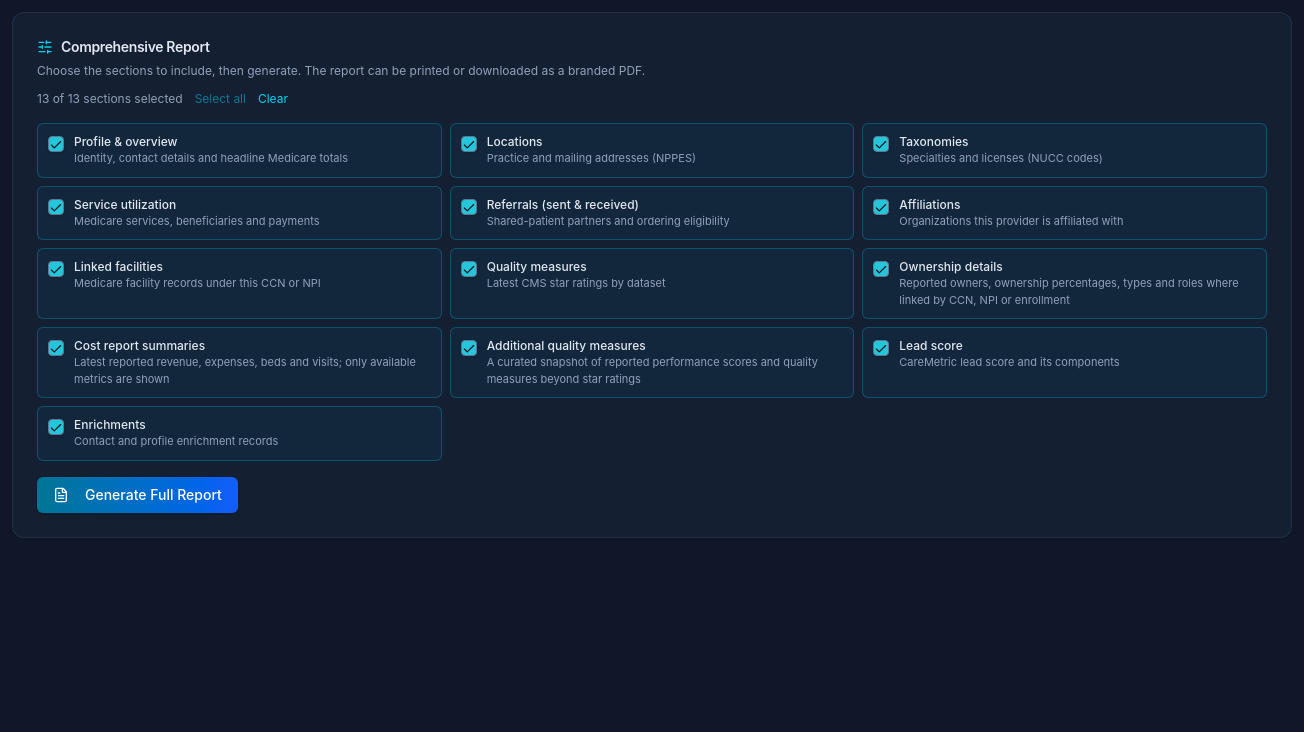
Test: ComprehensiveReport › selects every section by default and asks only for the ones left checked
Step 1. Click the button "Clear" → [273, 99], box x1=258 y1=91 x2=288 y2=107
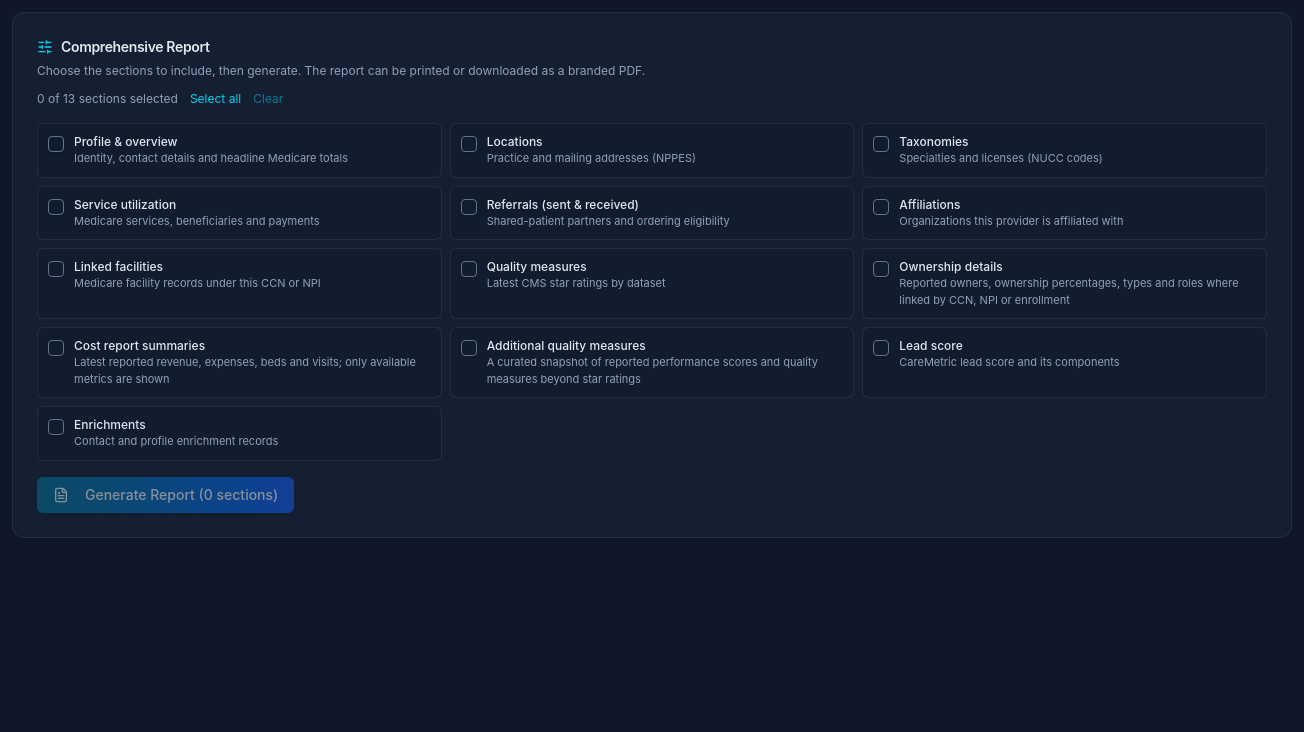
Expected: the button "Generate Report (0 sections)" is disabled, x1=37 y1=476 x2=294 y2=512
Step 2. Click the checkbox named "Locations" next to "Locations" → [469, 144], box x1=461 y1=136 x2=477 y2=152
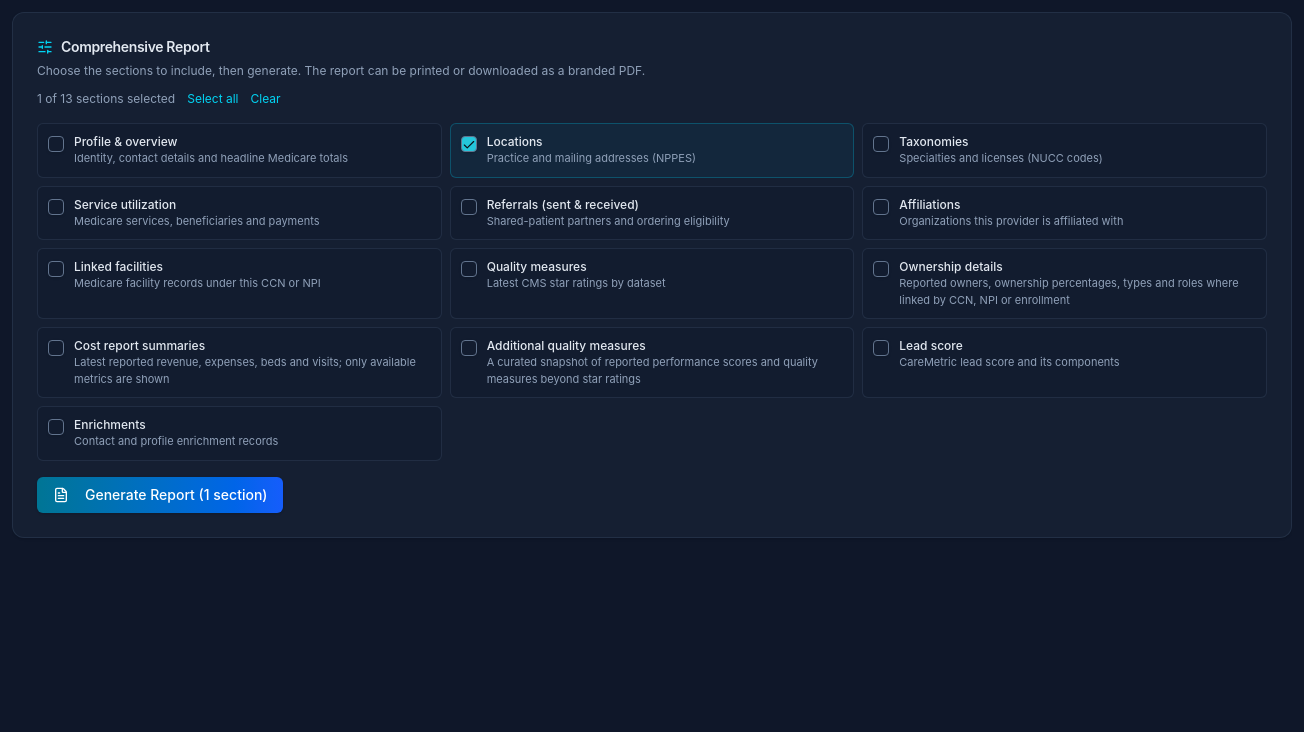
Step 3. Click the 8th checkbox named "Quality measures" → [469, 269], box x1=461 y1=261 x2=477 y2=277
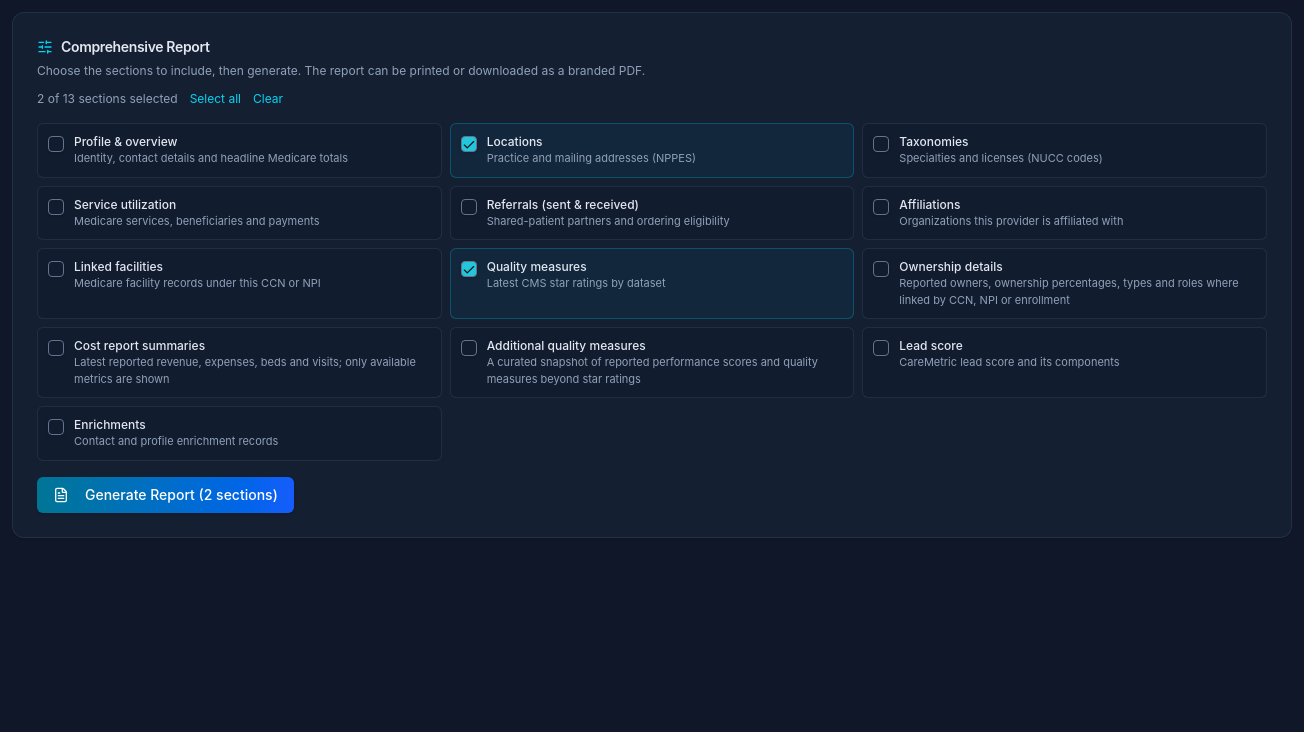
Step 4. Click the button "Generate Report (2 sections)" → [165, 494], box x1=37 y1=476 x2=294 y2=512
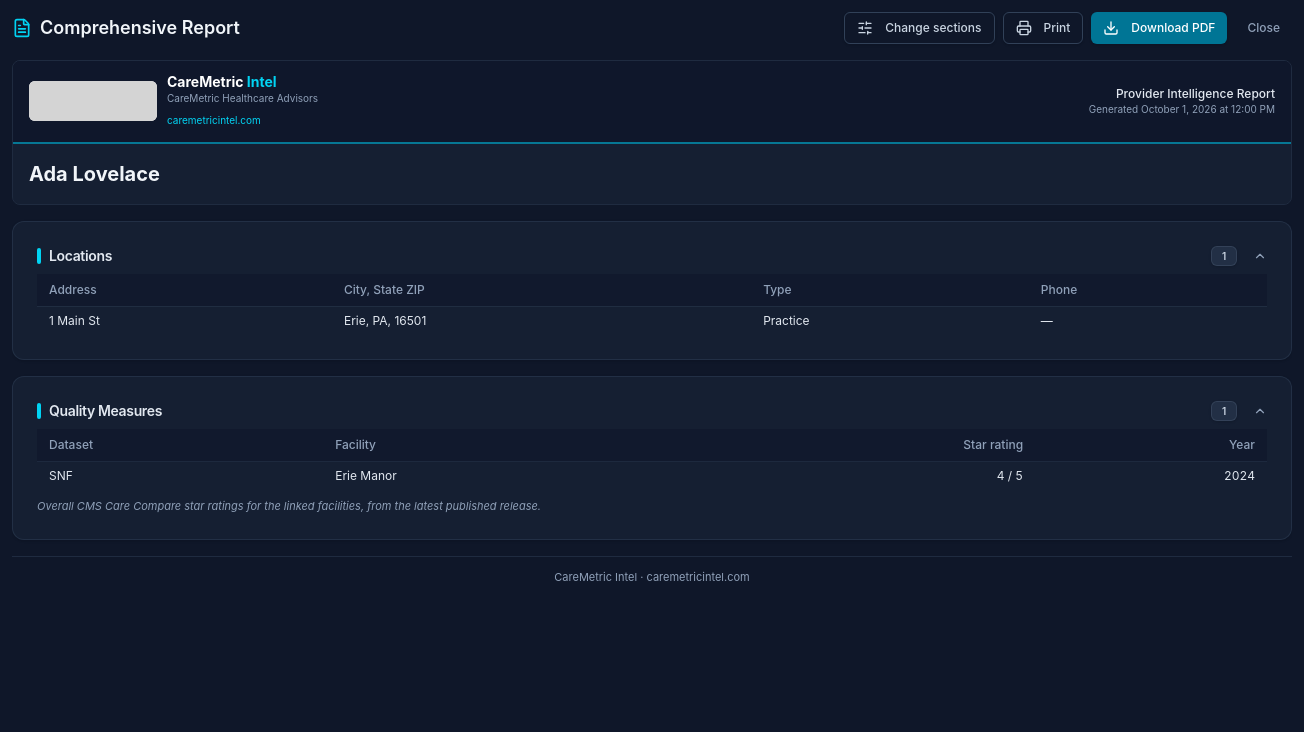
Expected: the button "Locations 1" is shown, x1=37 y1=246 x2=1267 y2=266
Expected: the text "1 Main St" is shown, x1=37 y1=306 x2=332 y2=335
Expected: the button "Quality Measures 1" is shown, x1=37 y1=401 x2=1267 y2=421
